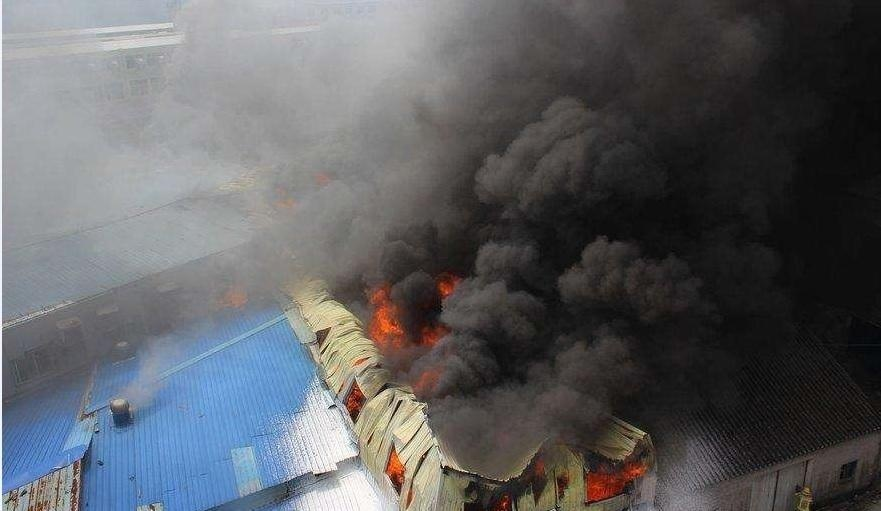fire: (368, 277, 451, 345), (584, 460, 643, 498), (386, 447, 409, 477), (342, 384, 366, 411)
